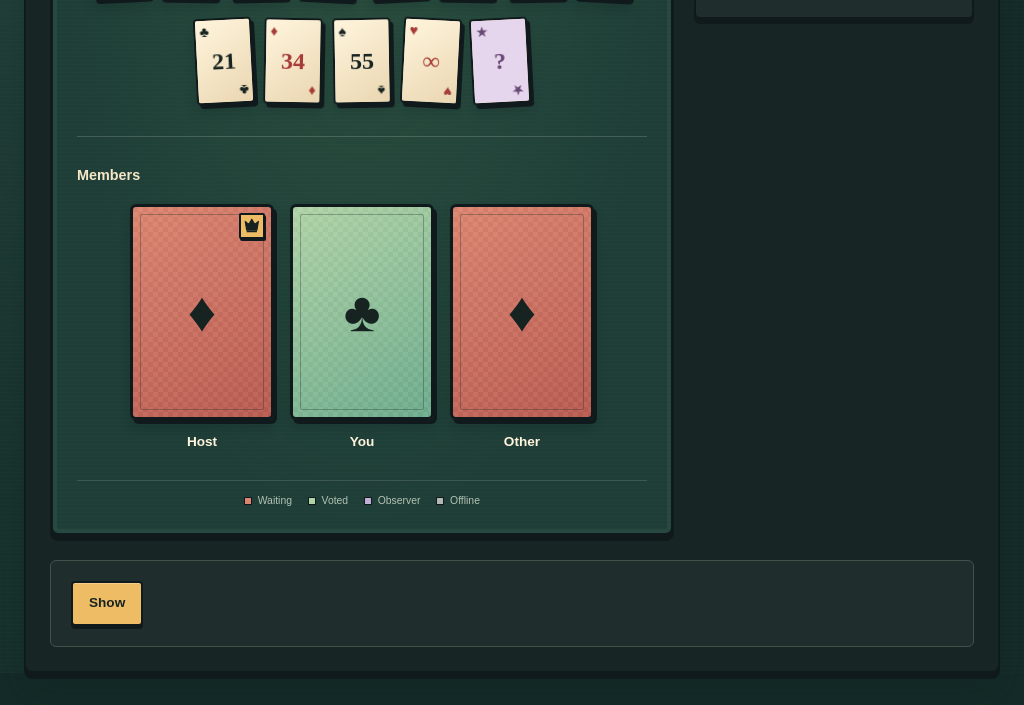
Test: room UI › updates the table when a voter reveals
(page scrolled)
Click the button "Show". click: (107, 604)
box: [71,581,143,626]
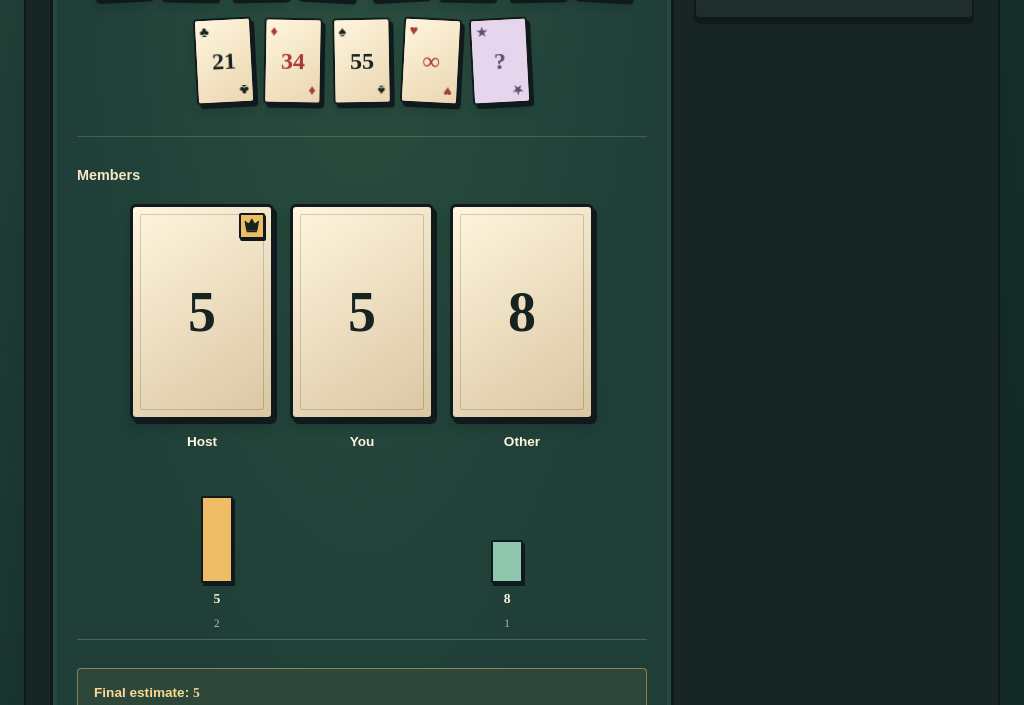
Result: the list item with test id "member-card-member-host" shows "5" at [188,281,216,343]
